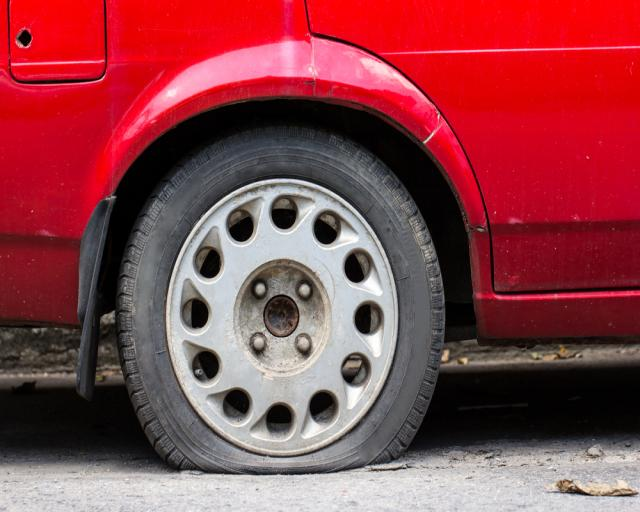tire flat: (120, 123, 446, 474)
